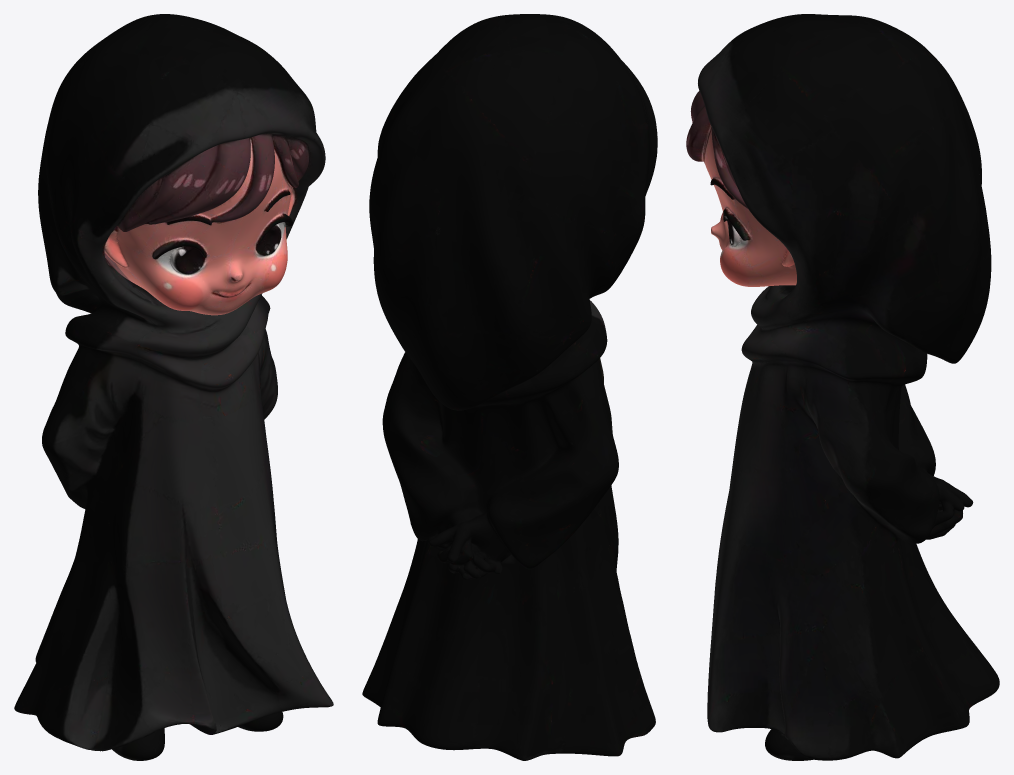
Rendered from mahra-plain.glb.
3 views of the same model, side by side, from view 1: azimuth 30°, elevation 25°; view 2: azimuth 150°, elevation 25°; view 3: azimuth 270°, elevation 25° (orthographic).
Size of the model in its own units: 0.7332 by 1.9 by 0.7716.
Materials: 1 (1 with a texture image).
